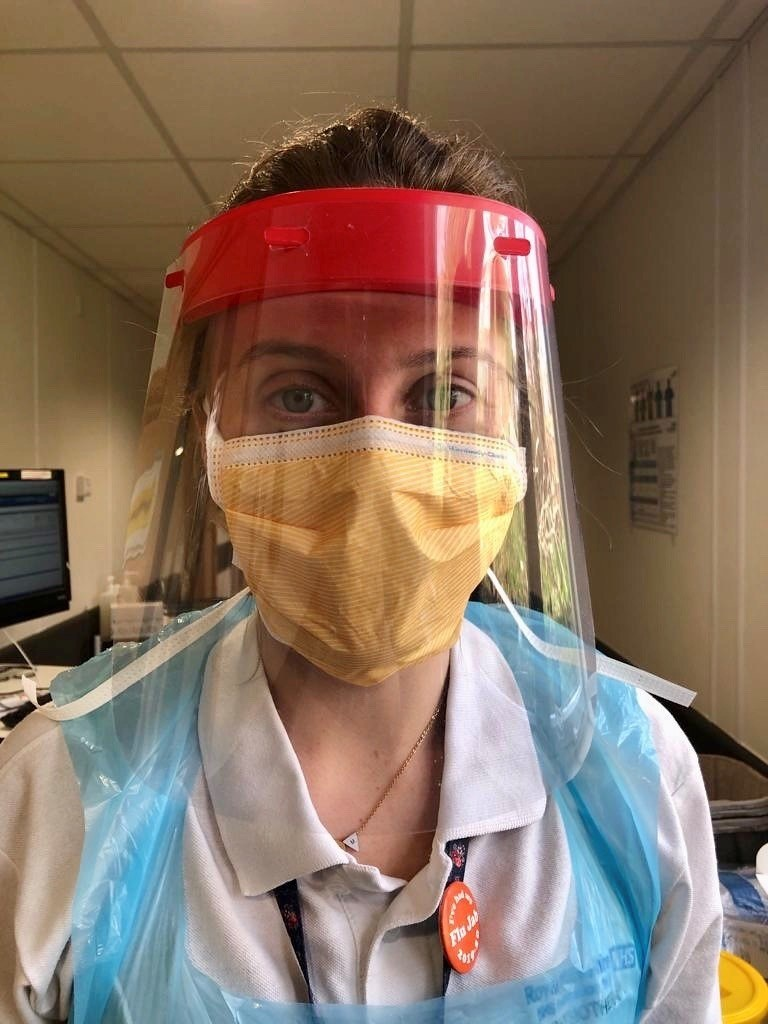face_with_mask: (180, 127, 553, 693)
